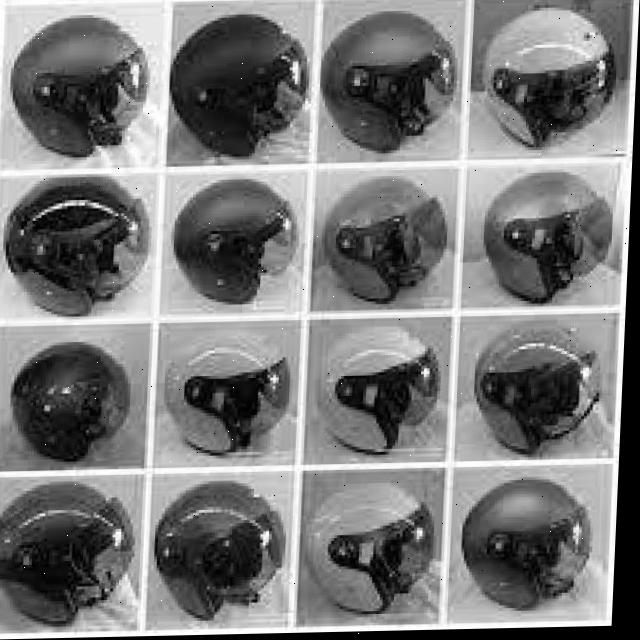Helmet: (0, 175, 157, 325), (477, 6, 627, 160), (0, 481, 145, 640), (9, 16, 155, 167), (172, 11, 315, 163), (157, 476, 297, 625), (460, 476, 605, 617), (300, 484, 447, 623), (480, 170, 621, 311), (471, 323, 613, 463), (326, 13, 458, 155), (317, 177, 452, 307), (316, 329, 450, 458), (166, 327, 296, 457), (173, 178, 302, 308), (15, 344, 136, 468)
